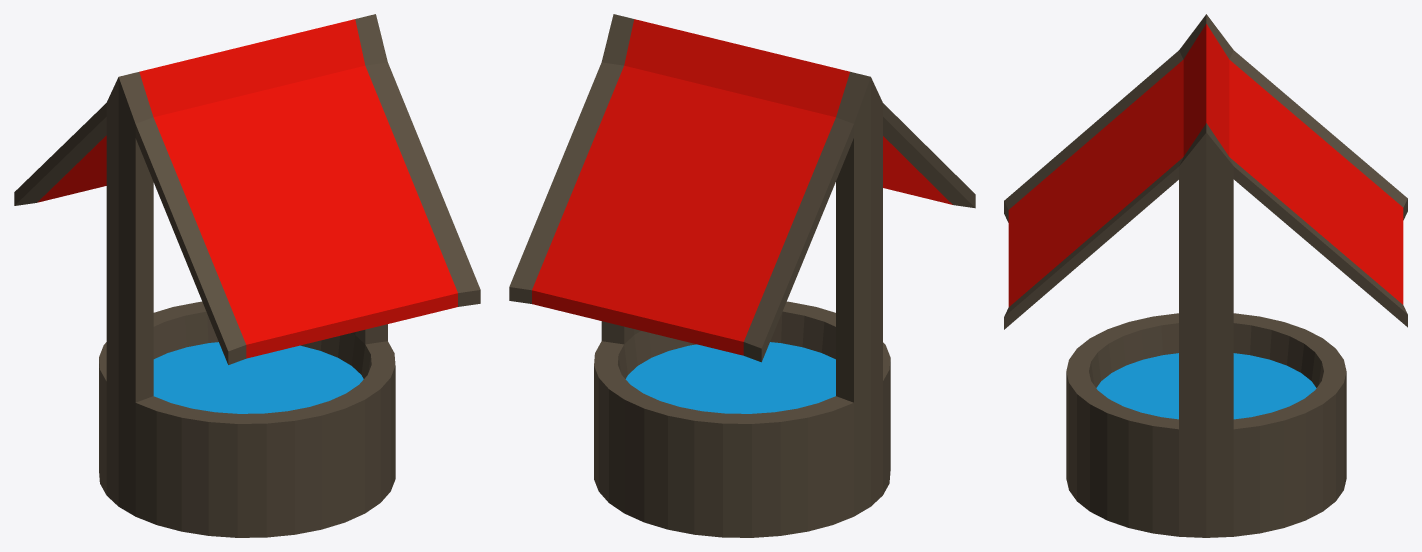
Rendered from Well.fbx.
The picture shows the model from 3 angles, left to right: view 1: azimuth 30°, elevation 25°; view 2: azimuth 150°, elevation 25°; view 3: azimuth 270°, elevation 25°; orthographic projection. The views are drawn at different scales.
Parts seen in each view (by area): view 1: Cylinder; view 2: Cylinder; view 3: Cylinder.
Boxes of the visible parts, bbox=[...] form: Cylinder: bbox=[14, 14, 480, 537]; Cylinder: bbox=[509, 14, 975, 537]; Cylinder: bbox=[1004, 14, 1407, 537].
Size of the model in its own units: 200 by 319 by 288.
